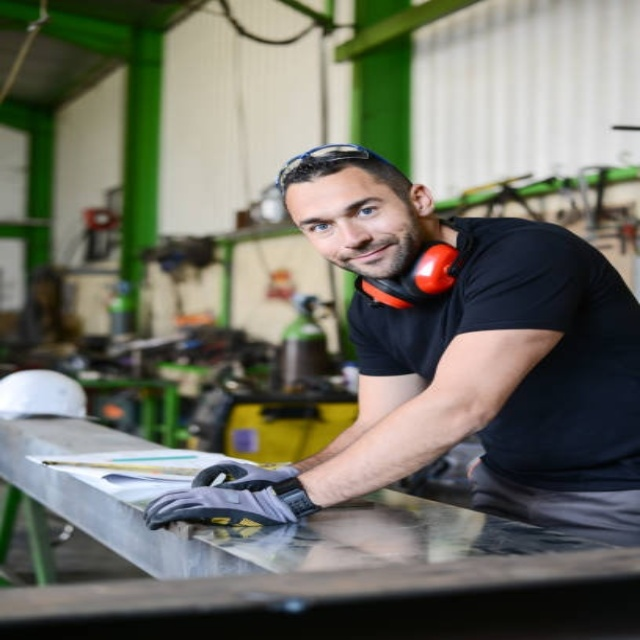Guantes: (145, 463, 319, 530)
Sin_gafas: (296, 195, 386, 236)
Sin_mascara: (337, 242, 402, 276)
